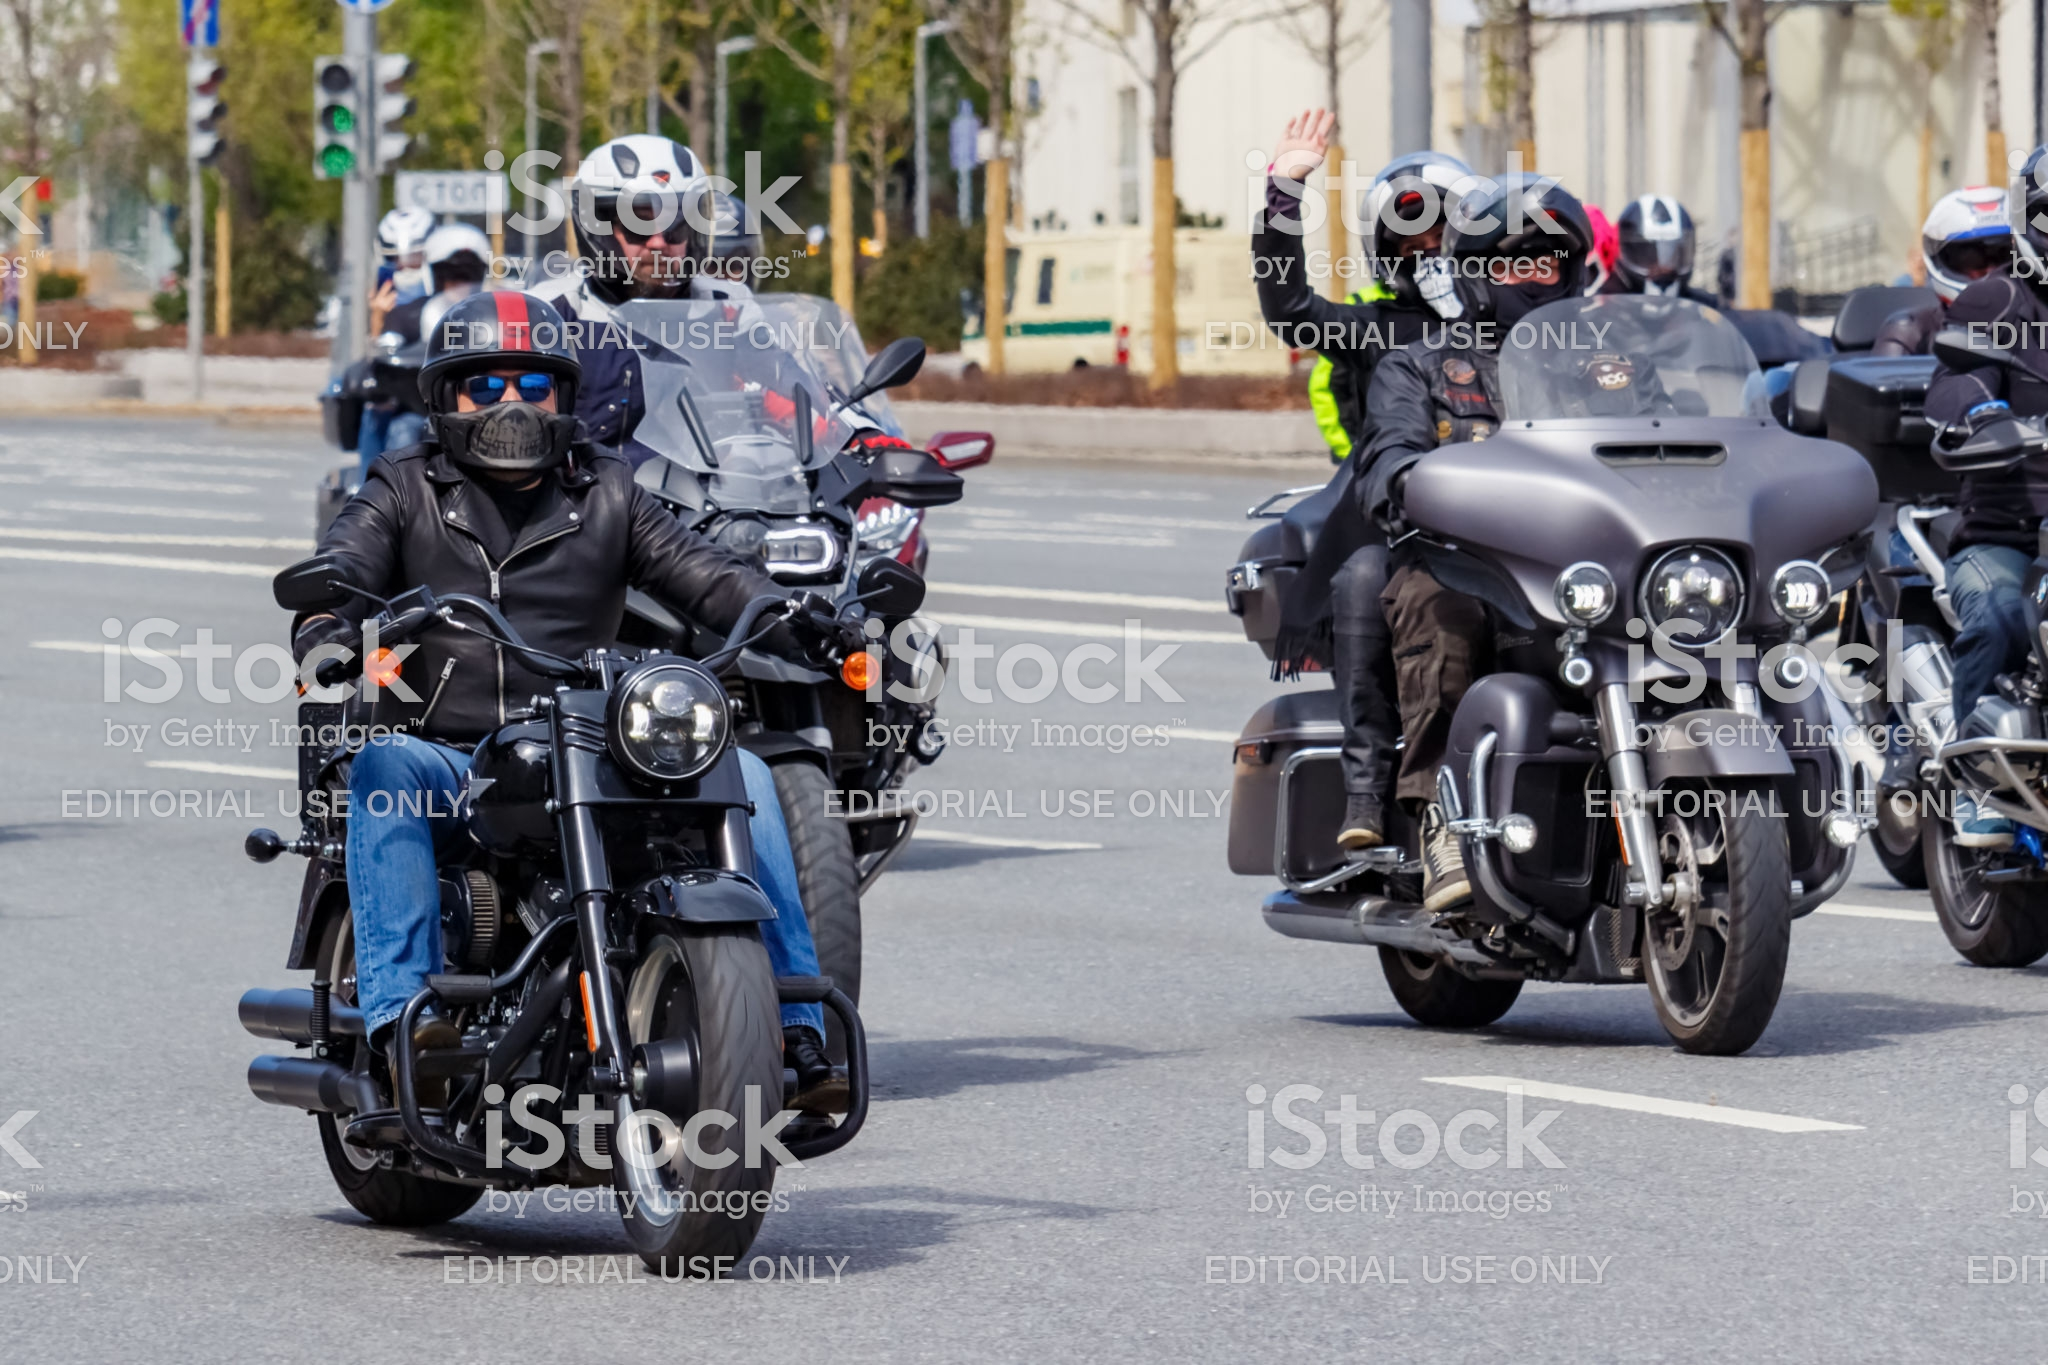helmet: (565, 133, 745, 308), (1430, 174, 1611, 340), (416, 302, 588, 449)
